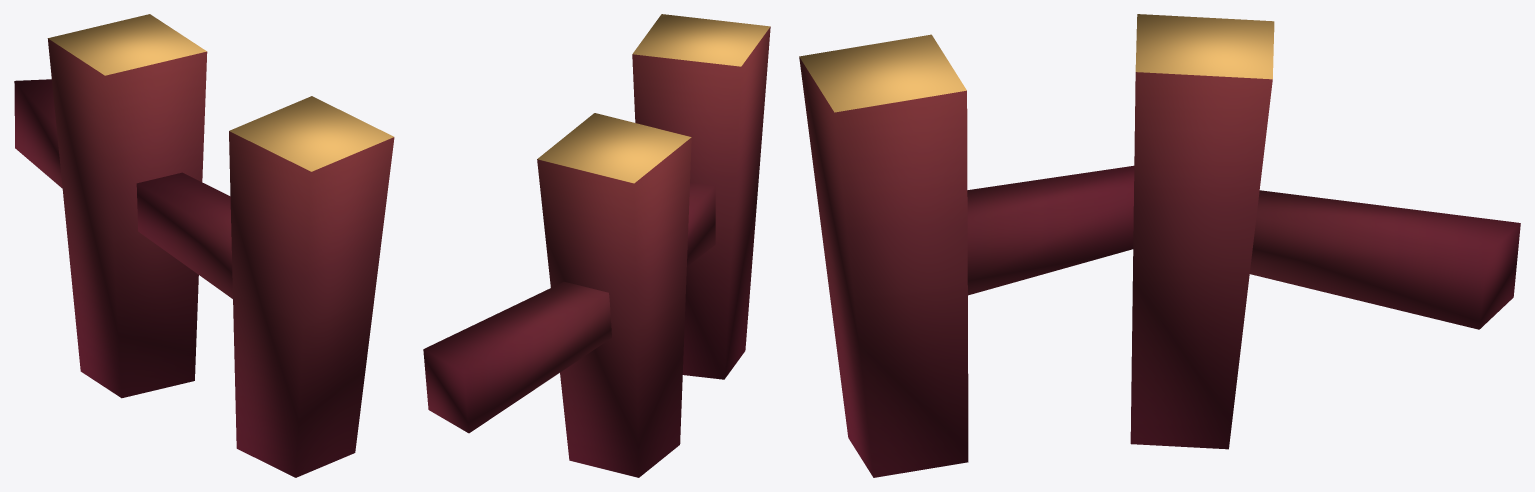
The model's file is fence-curved1.fbx.
3 views of the same model, side by side, from view 1: azimuth 30°, elevation 25°; view 2: azimuth 150°, elevation 25°; view 3: azimuth 270°, elevation 25° (orthographic). The views are drawn at different scales.
Parts seen in each view (by area): view 1: Cylinder.022; view 2: Cylinder.022; view 3: Cylinder.022.
Part boxes in pixels (bbox=[...]): Cylinder.022: bbox=[14, 14, 394, 477]; Cylinder.022: bbox=[423, 14, 770, 477]; Cylinder.022: bbox=[799, 14, 1520, 477].
Bounding box in the file's own units: 6.34 × 12.42 × 21.08.
